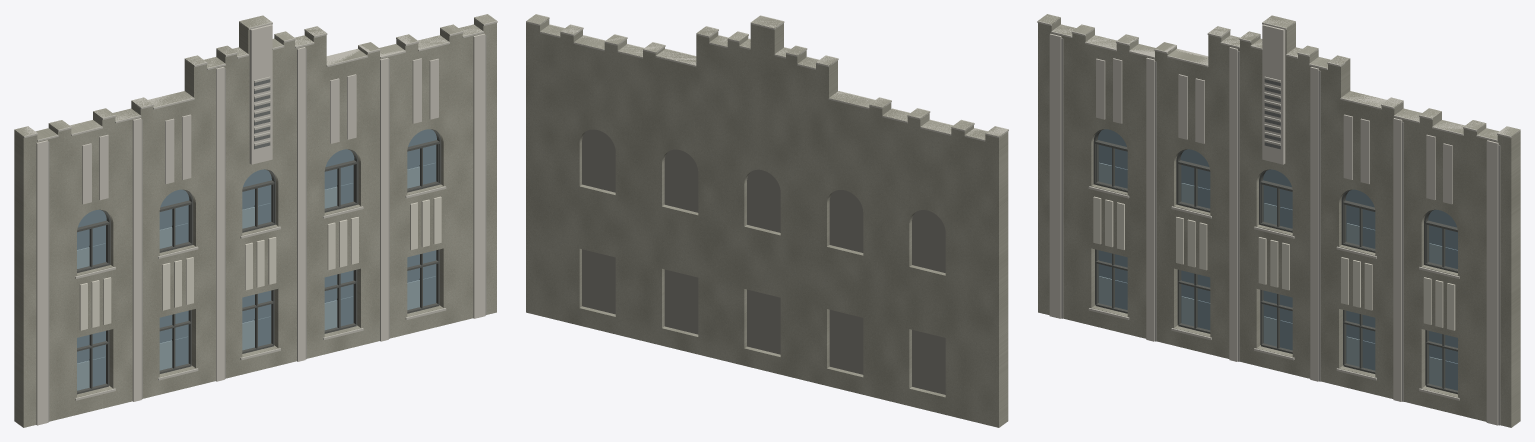
Rendered from wuzhou-five-arched-crown-windows-near.glb.
3 views of the same model, side by side, from view 1: azimuth 30°, elevation 25°; view 2: azimuth 150°, elevation 25°; view 3: azimuth 330°, elevation 25° (orthographic).
Visible parts, largest first — view 1: 五洲大楼顶层五联券窗与阶梯式冠顶; view 2: 五洲大楼顶层五联券窗与阶梯式冠顶; view 3: 五洲大楼顶层五联券窗与阶梯式冠顶.
Part boxes in pixels (left/top/right/bottom): 五洲大楼顶层五联券窗与阶梯式冠顶: left=14, top=14, right=497, bottom=427; 五洲大楼顶层五联券窗与阶梯式冠顶: left=526, top=14, right=1008, bottom=427; 五洲大楼顶层五联券窗与阶梯式冠顶: left=1037, top=14, right=1520, bottom=427.
Size of the model in its own units: 9.92 by 6.91 by 0.424.
Materials: 10 (1 with a texture image).
